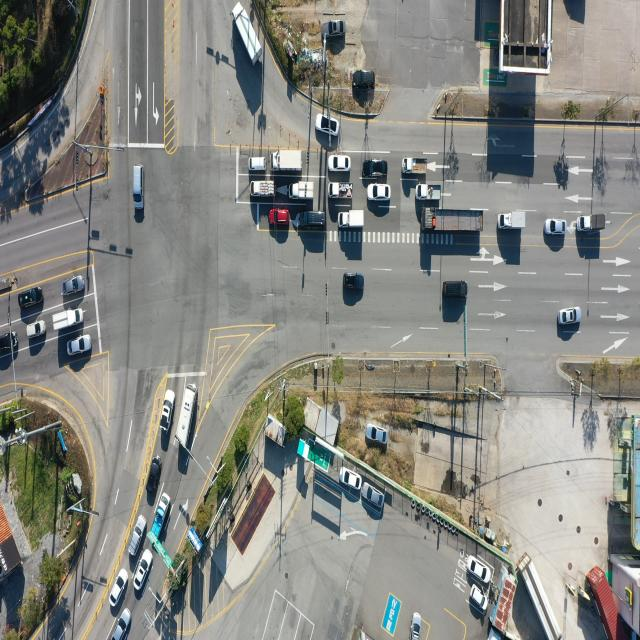car: (134, 548, 153, 590), (109, 568, 128, 608), (129, 514, 147, 556), (146, 458, 162, 503), (109, 608, 131, 640), (161, 390, 176, 434), (470, 557, 492, 584), (316, 114, 340, 138), (0, 330, 19, 359), (362, 484, 384, 509), (19, 287, 43, 308), (472, 582, 490, 610), (66, 337, 91, 357), (341, 467, 363, 489), (443, 280, 468, 298), (365, 424, 387, 444), (63, 276, 85, 296), (134, 164, 144, 208), (363, 158, 387, 176), (300, 211, 325, 228), (367, 183, 390, 201), (352, 70, 374, 88), (558, 308, 581, 325), (328, 156, 350, 173), (26, 320, 46, 338), (325, 20, 345, 38), (544, 218, 565, 235), (411, 612, 423, 640), (344, 274, 364, 290), (271, 209, 290, 224), (251, 156, 269, 170)
medium_truck: (524, 557, 562, 638), (230, 0, 260, 62), (420, 208, 482, 232), (271, 149, 302, 172)
small_bus: (177, 384, 201, 448)
small_truck: (151, 492, 172, 540), (52, 308, 84, 332), (578, 212, 607, 232), (498, 210, 527, 230), (288, 180, 314, 200), (340, 211, 366, 229), (327, 181, 353, 199), (250, 179, 275, 197), (404, 158, 429, 175), (416, 184, 440, 200)
